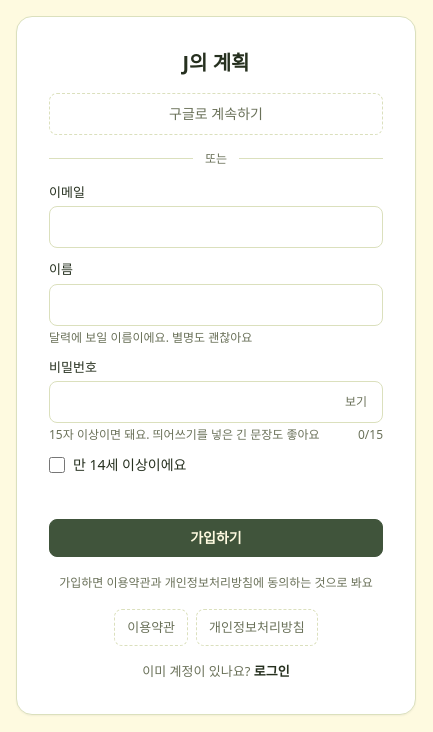
Test case: 가입 화면 /signup (US-33, D-079 · SITE-05b) › 202 → POST /auth/signup {email, password, name, ageOver14: true} + CSRF → 같은 주소에서 "메일을 확인해 주세요" (SITE-05c)
Type "qa-fe-01@example.com" into the field labelled "이메일". click: (216, 227)
box: [49,206,383,248]
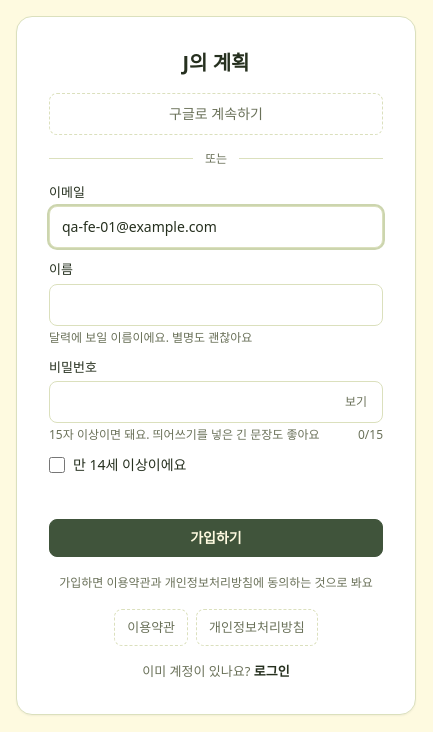
Type "검수" into the field labelled "이름". click: (216, 304)
box: [49,284,383,326]
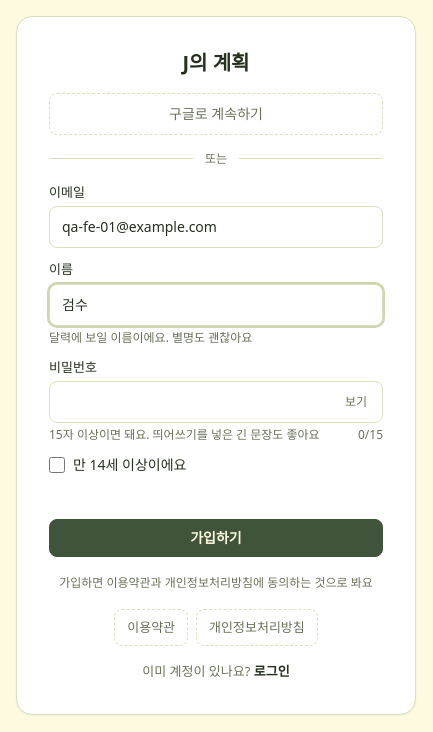
Type "긴 문장 비밀번호 열다섯자 넘음" into the password field labelled "비밀번호". click: (216, 402)
box: [49,381,383,423]
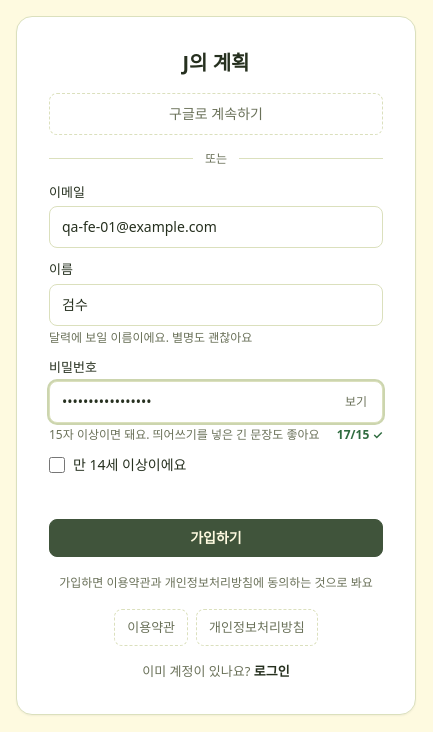
Click the checkbox labelled "만 14세 이상이에요". click: (57, 465)
box: [49,457,65,473]
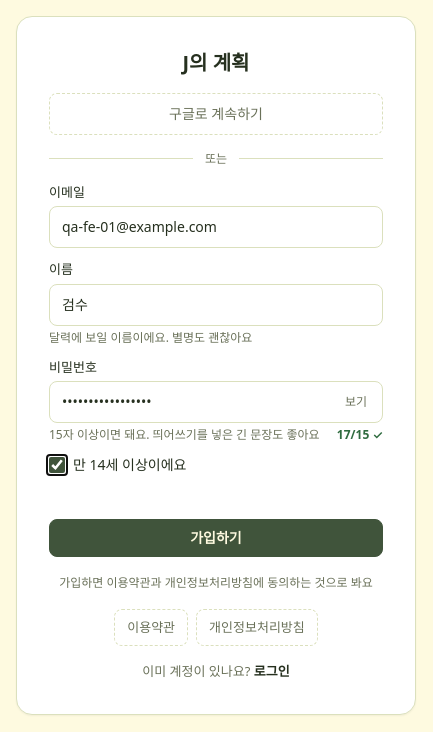
Click the button "가입하기". click: (216, 538)
box: [49,519,383,557]
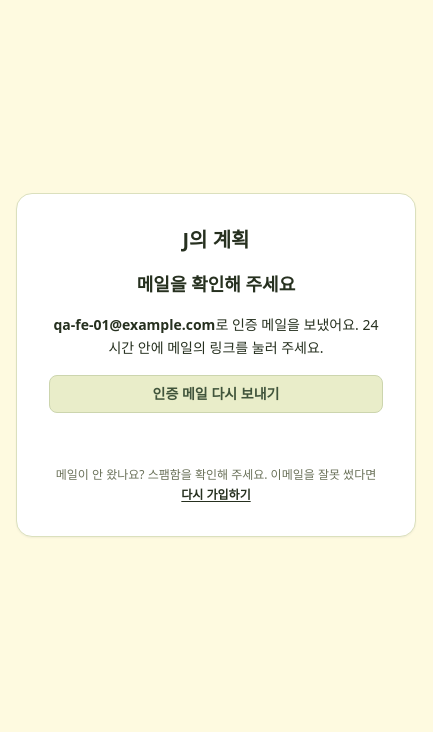
Expected: the heading "메일을 확인해 주세요" is shown, [137,272,295,296]
Expected: the text "qa-fe-01@example.com" is shown, [54,315,215,334]
Expected: the text "로 인증 메일을 보냈어요. 24시간 안에 메일의 링크를 눌러 주세요." is shown, [108,315,378,357]
